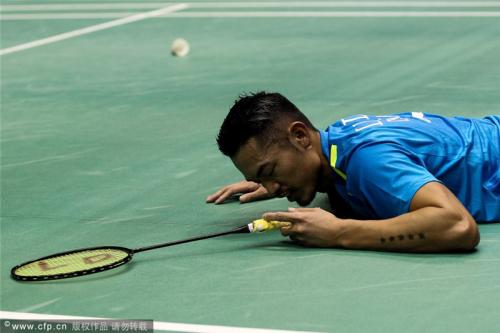down: (201, 87, 500, 257)
